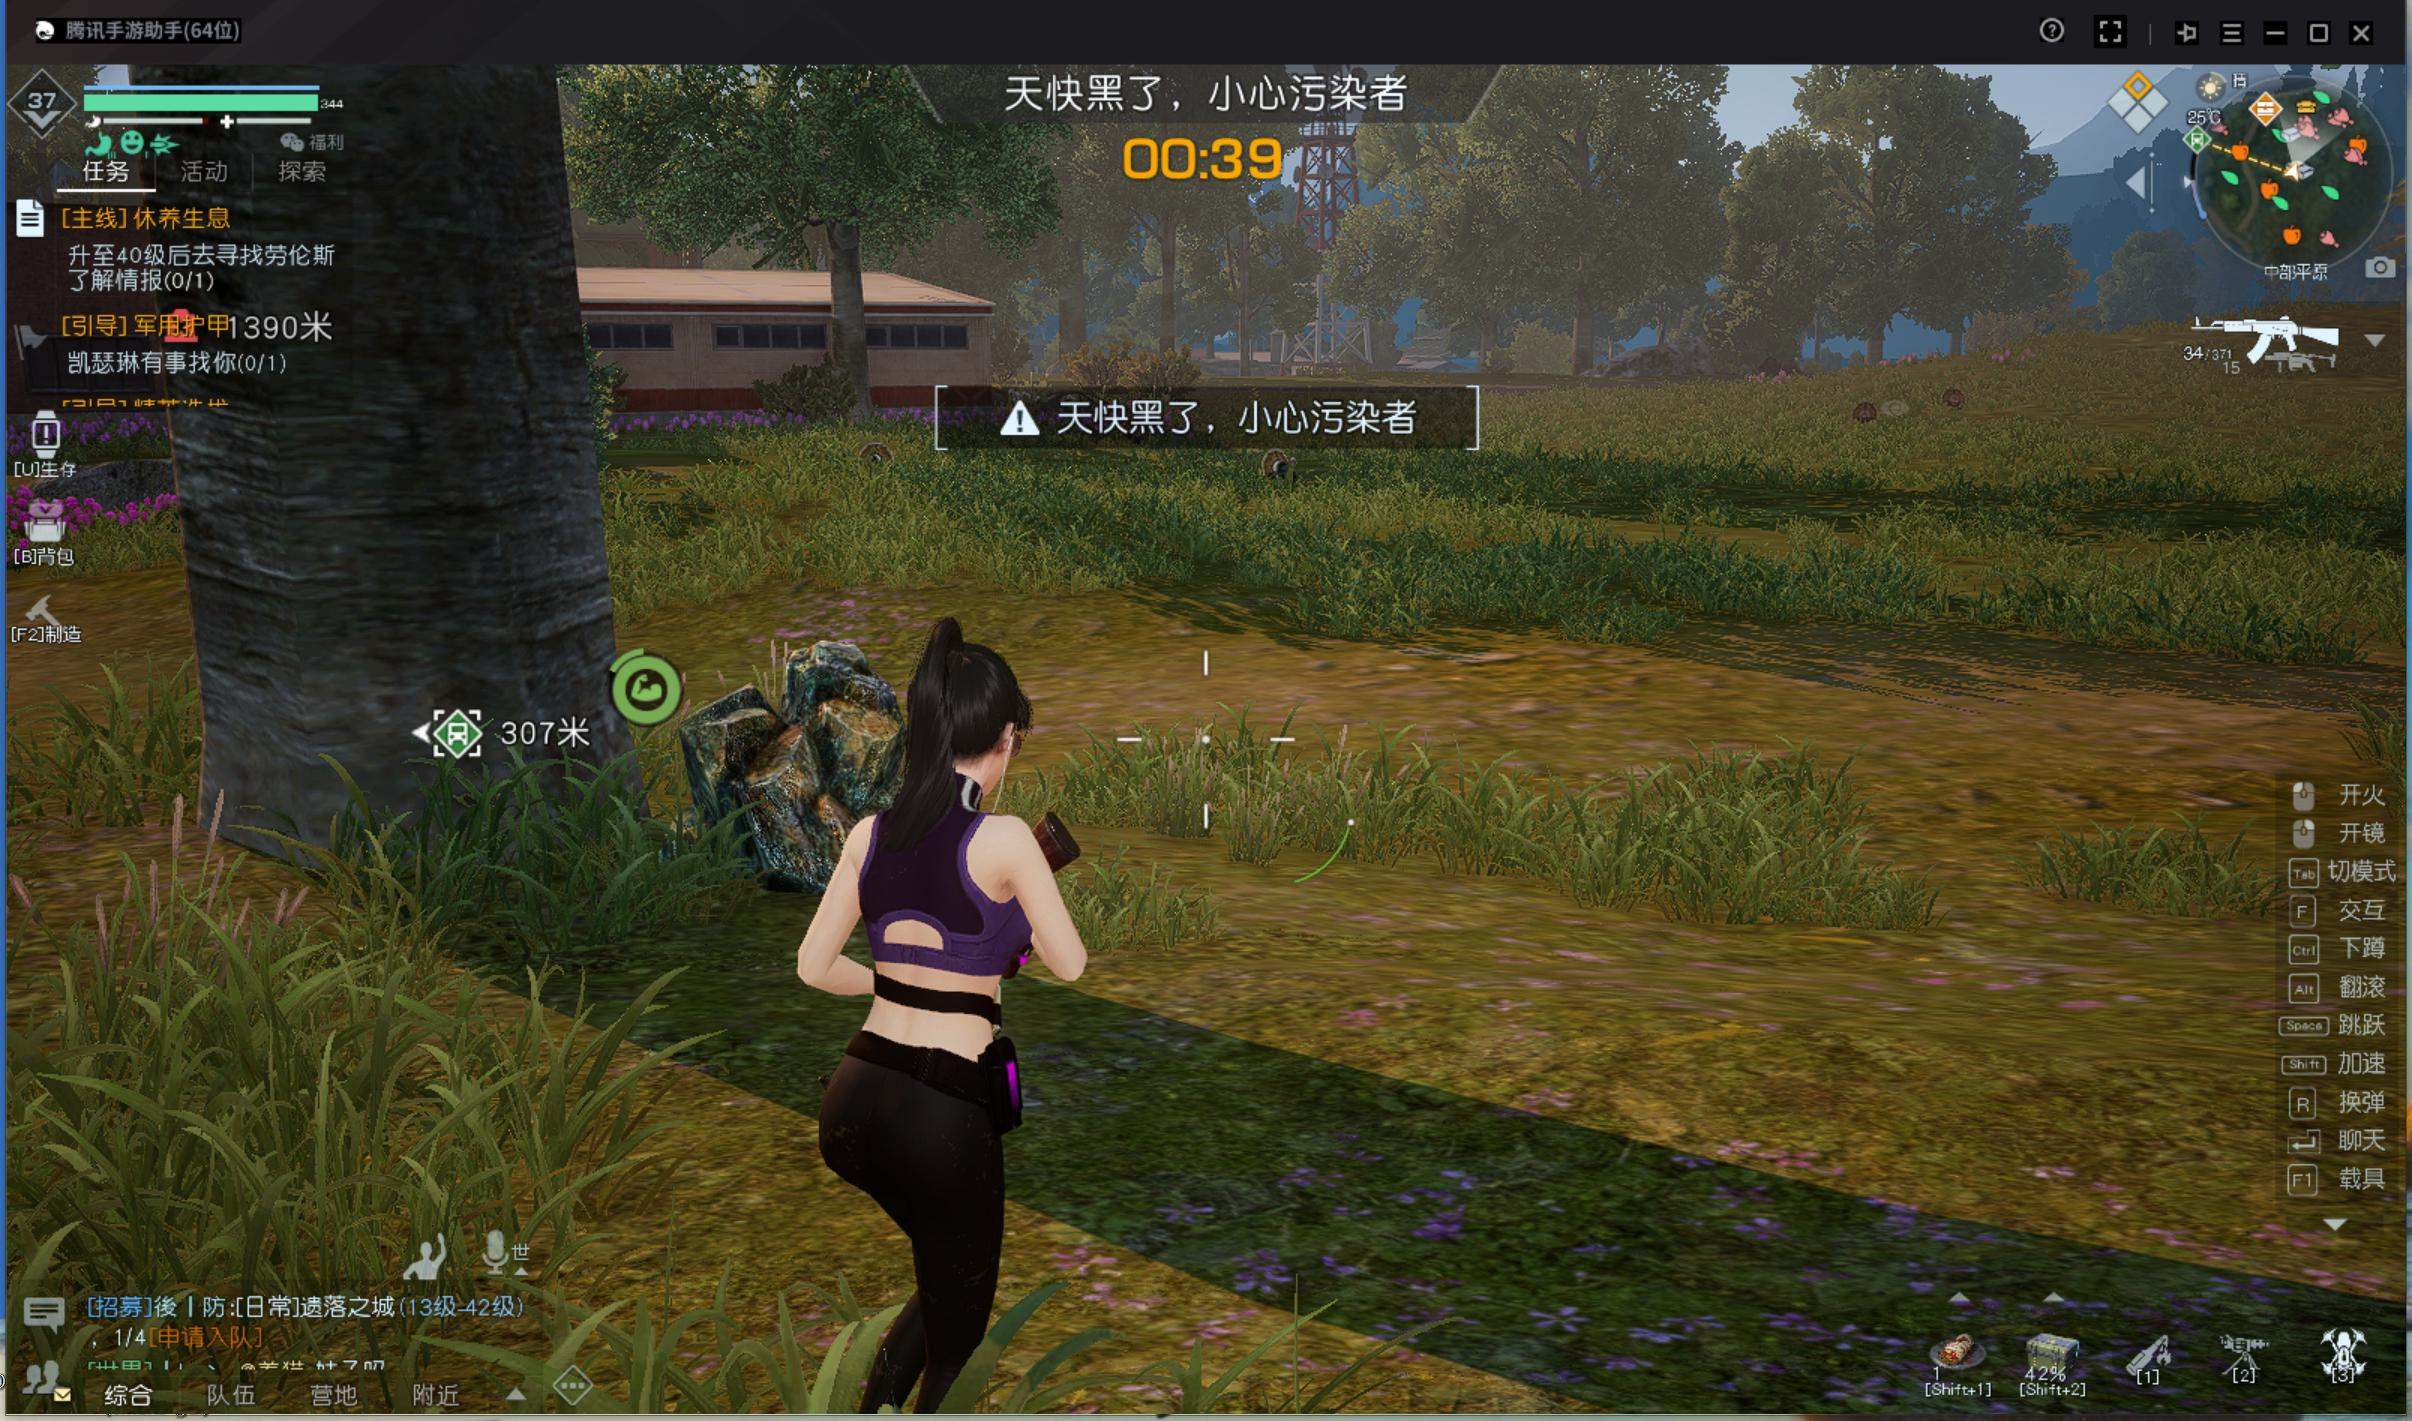stone: (709, 623, 903, 820)
